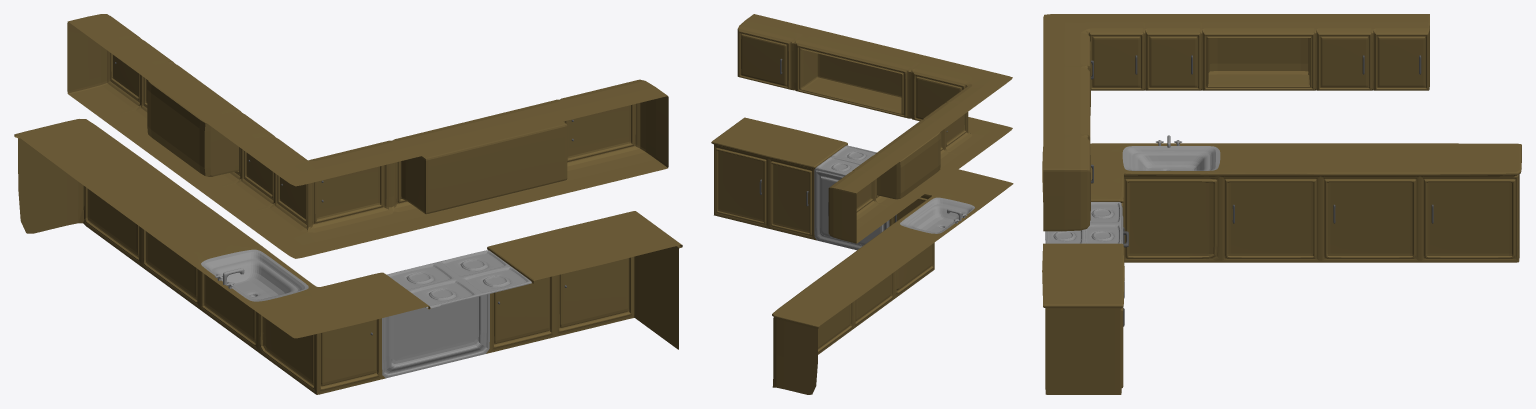
Rendered from bucatarie chiuveta+dulapuri.fbx.
3 views of the same model, side by side, from view 1: azimuth 30°, elevation 25°; view 2: azimuth 150°, elevation 25°; view 3: azimuth 270°, elevation 25° (orthographic). The views are drawn at different scales.
Parts seen in each view (by area): view 1: Cube.062; view 2: Cube.062; view 3: Cube.062.
Part boxes in pixels (bbox=[...]): Cube.062: bbox=[14, 14, 682, 394]; Cube.062: bbox=[711, 14, 1013, 394]; Cube.062: bbox=[1042, 14, 1521, 394].
Bounding box in the file's own units: 552 × 350 × 691.
